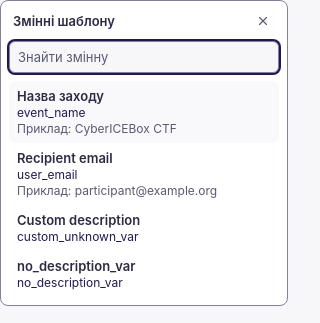
it: VariablePickerMenu › shows an empty state when nothing matches
In the search field labelled "Знайти змінну": coordinates (144, 57) [9, 41, 279, 73], type "zzz-nothing"
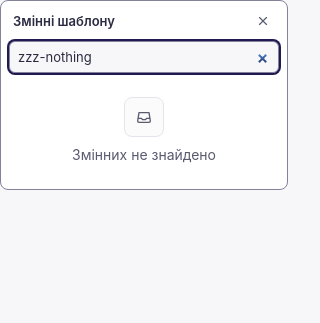
Expected: the text "Змінних не знайдено" is shown, [72, 145, 216, 165]
